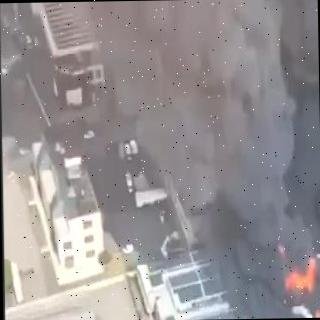smoke: (85, 0, 320, 210), (212, 223, 285, 319), (284, 251, 318, 318), (316, 208, 320, 314)
